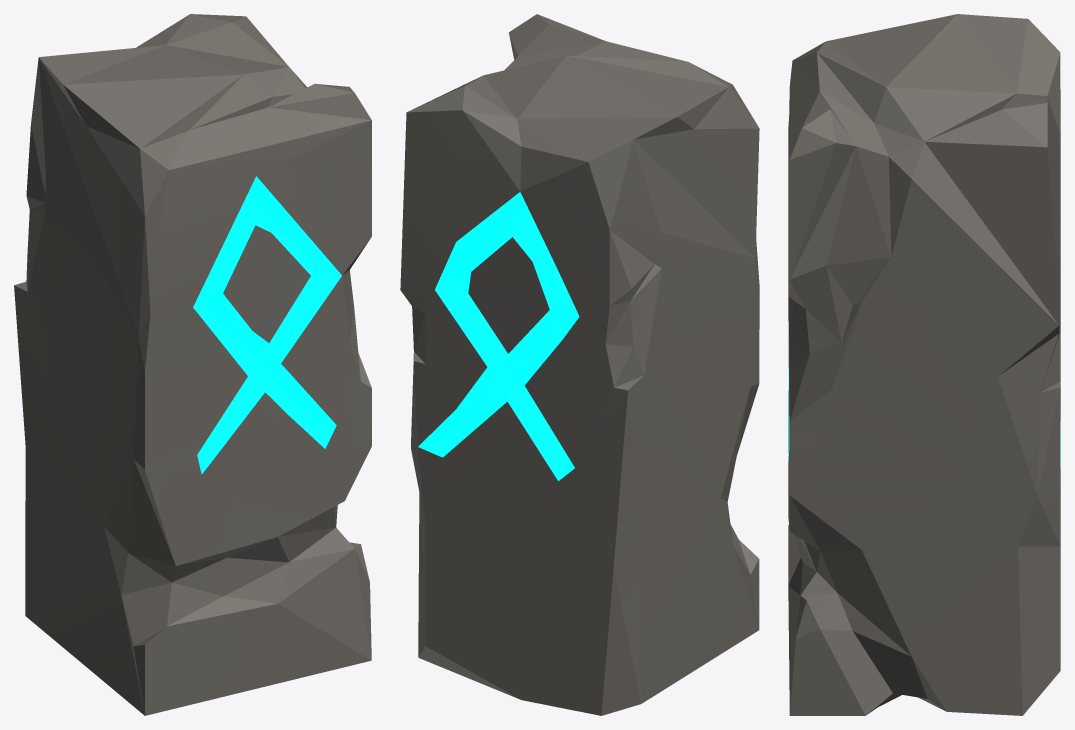
Rendered from BigMagicStone3.FBX.
3 renders of one model, left to right at view 1: azimuth 30°, elevation 25°; view 2: azimuth 150°, elevation 25°; view 3: azimuth 270°, elevation 25°, orthographic. The views are drawn at different scales.
Parts seen in each view (by area): view 1: Obj3d66-1649282-21-757; view 2: Obj3d66-1649282-21-757; view 3: Obj3d66-1649282-21-757.
Part boxes in pixels (bbox=[...]): Obj3d66-1649282-21-757: bbox=[14, 14, 371, 715]; Obj3d66-1649282-21-757: bbox=[400, 14, 759, 715]; Obj3d66-1649282-21-757: bbox=[788, 14, 1060, 715].
Bounding box in the file's own units: 1000 × 2382 × 1000.
1 material, 1 textured.
